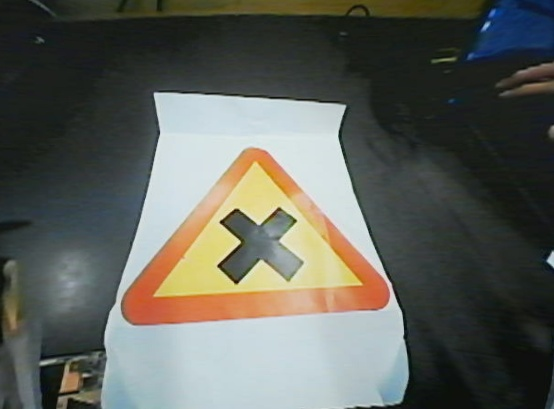junction: (131, 137, 394, 342)
